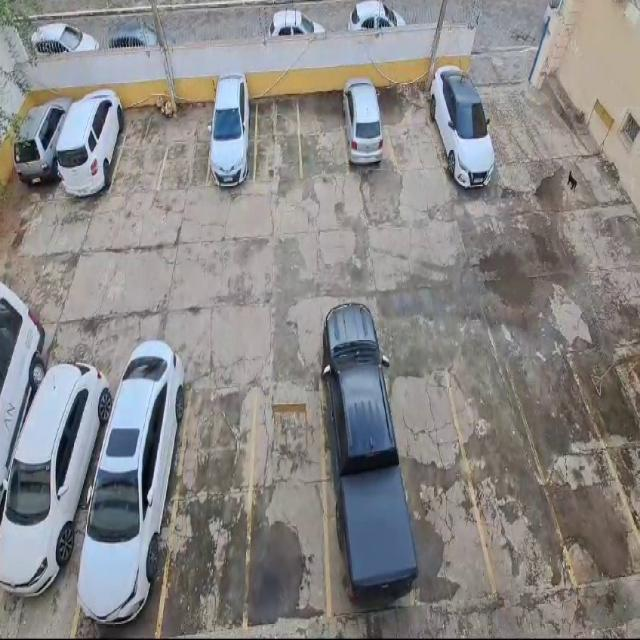empty: (508, 355, 639, 582), (446, 371, 574, 597), (390, 376, 494, 604), (159, 386, 254, 631), (245, 387, 330, 624), (381, 87, 445, 182), (110, 112, 174, 191), (159, 104, 216, 191), (297, 92, 348, 174), (255, 96, 300, 179)
notEmpty: (0, 370, 122, 639), (75, 368, 193, 635), (318, 375, 419, 617), (420, 75, 499, 190), (4, 100, 77, 197), (58, 110, 127, 195), (337, 82, 398, 178), (207, 99, 255, 183)
